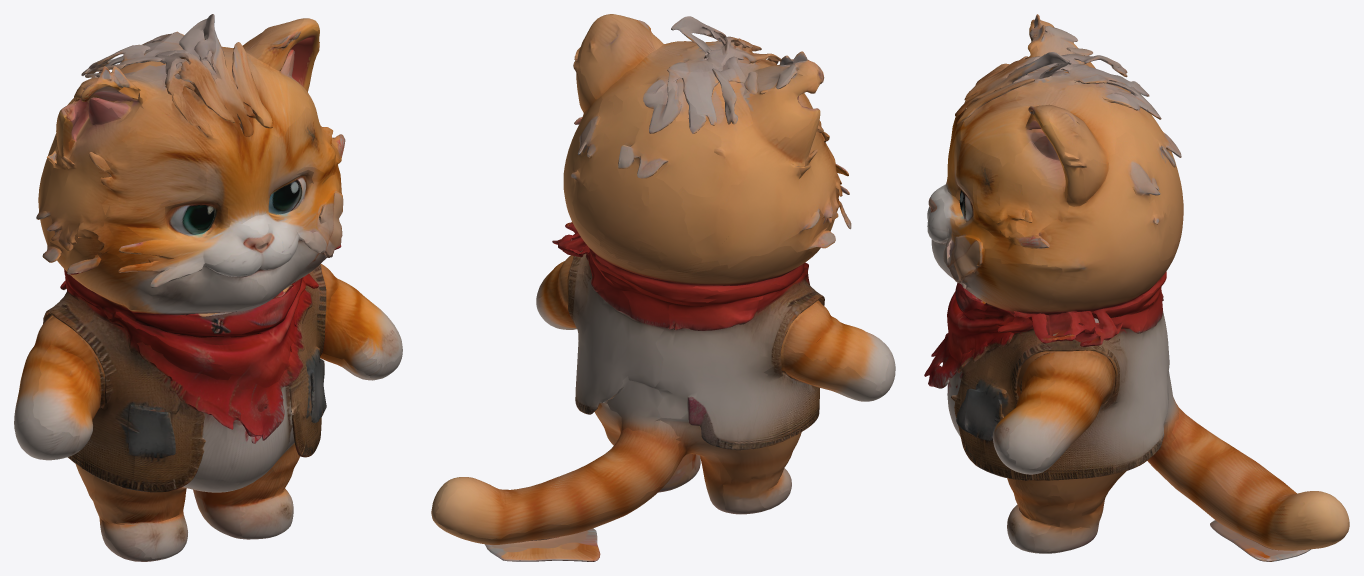
File: meo-42-web.glb
The picture shows the model from 3 angles, left to right: view 1: azimuth 30°, elevation 25°; view 2: azimuth 150°, elevation 25°; view 3: azimuth 270°, elevation 25°; orthographic projection. The views are drawn at different scales.
Parts seen in each view (by area): view 1: meo-42; view 2: meo-42; view 3: meo-42.
Part boxes in pixels (x1,y1,x2,y2): meo-42: (14, 14, 402, 561); meo-42: (431, 14, 895, 561); meo-42: (924, 14, 1349, 561).
Size of the model in its own units: 1.52 by 1.99 by 1.61.
Materials: 1 (1 with a texture image).
